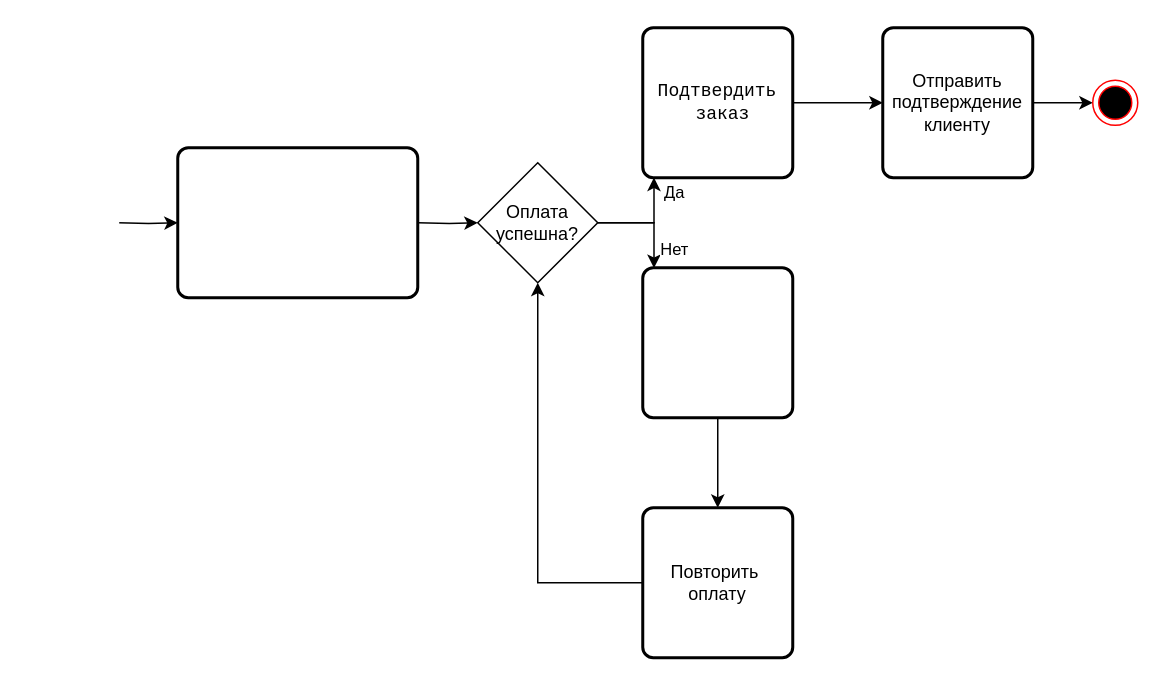
Some shapes in this 1164 by 684 pixel diagram are drawn without their labels. Here are the shapes that lost their labels. From the top down, the box of each, then its label:
(176, 146, 418, 298): Выполнить оплату
(640, 266, 794, 418): Выбрать другой способ оплаты
